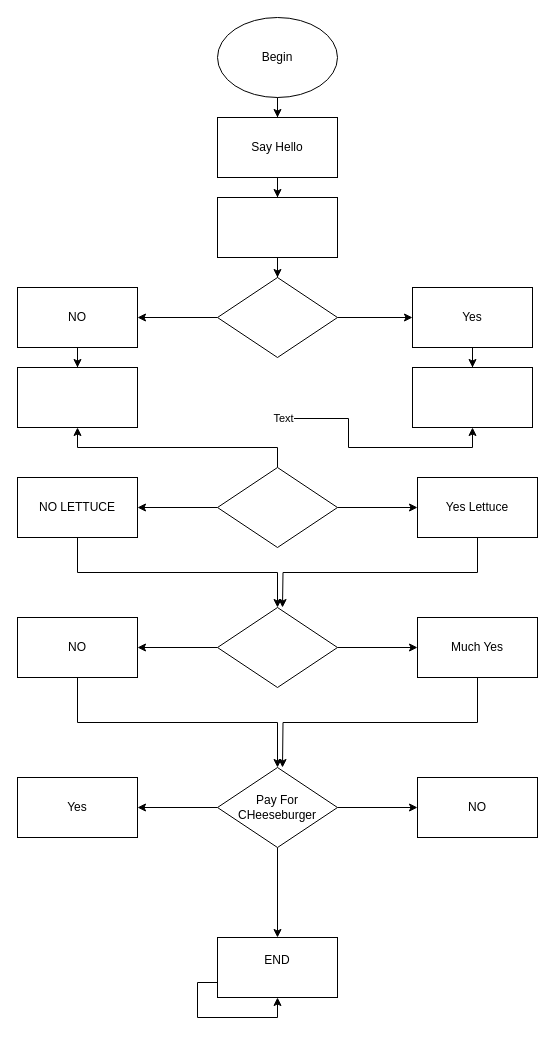
This 555x1043 diagram has some shape labels left out. The shapes that lost their labels are listed below. From the top down, each one's centre as x and y in pixels, then its label:
At point (277, 227): "Can I get a Cheeseburger".
At point (277, 317): "Do you want pickles".
At point (77, 397): "Ask for no pickles".
At point (472, 397): "Ask for pickles".
At point (277, 507): "Do you want lettuce".
At point (277, 647): "Do you want tomato".
